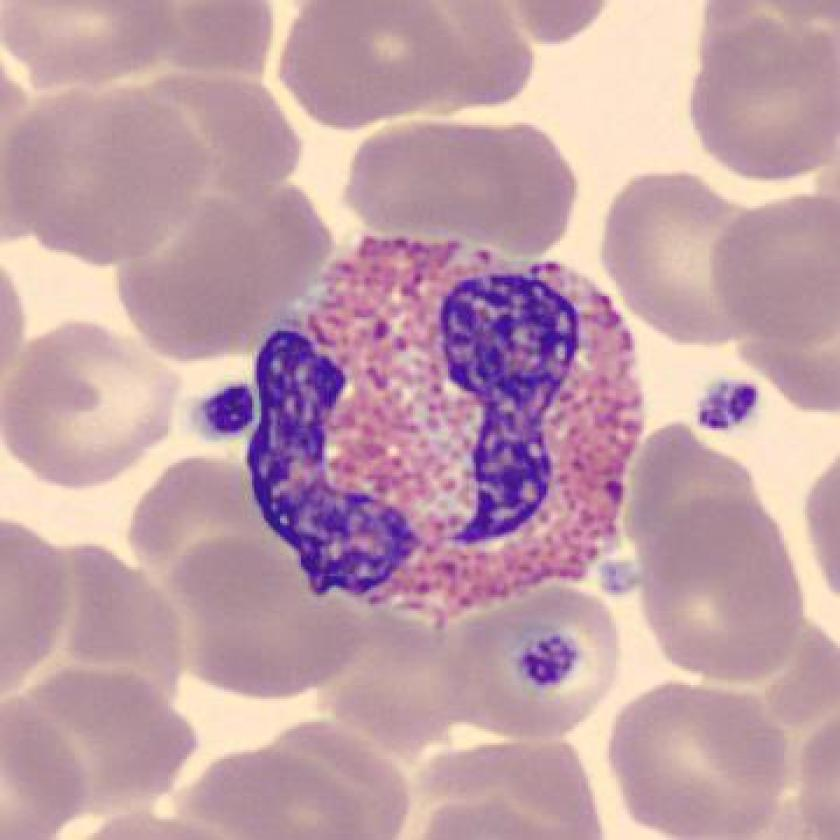eosinophil: (241, 225, 666, 633)
